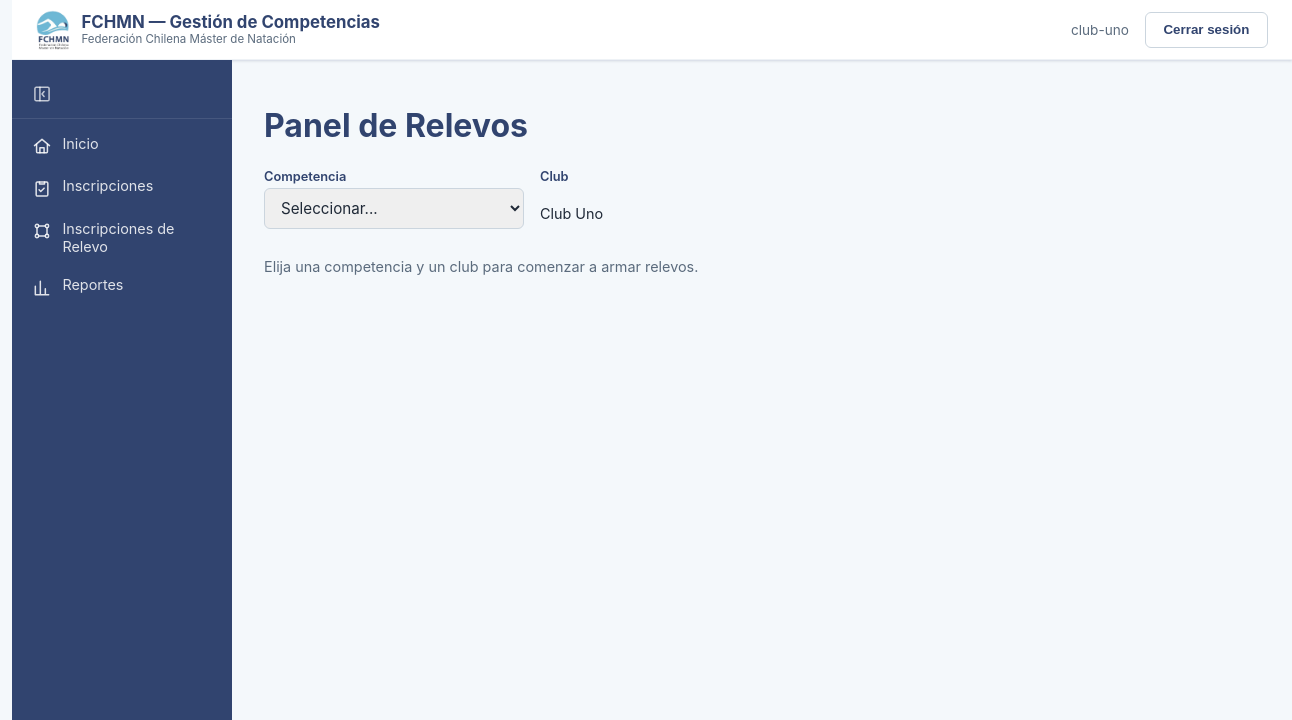
it: «Inscripciones cerradas»: nada operativo para un club › avisa del cierre y mantiene la consulta
The image size is (1292, 720).
Select "Competencia A" in the dropdown. click: (394, 209)
box: [264,188,524,229]
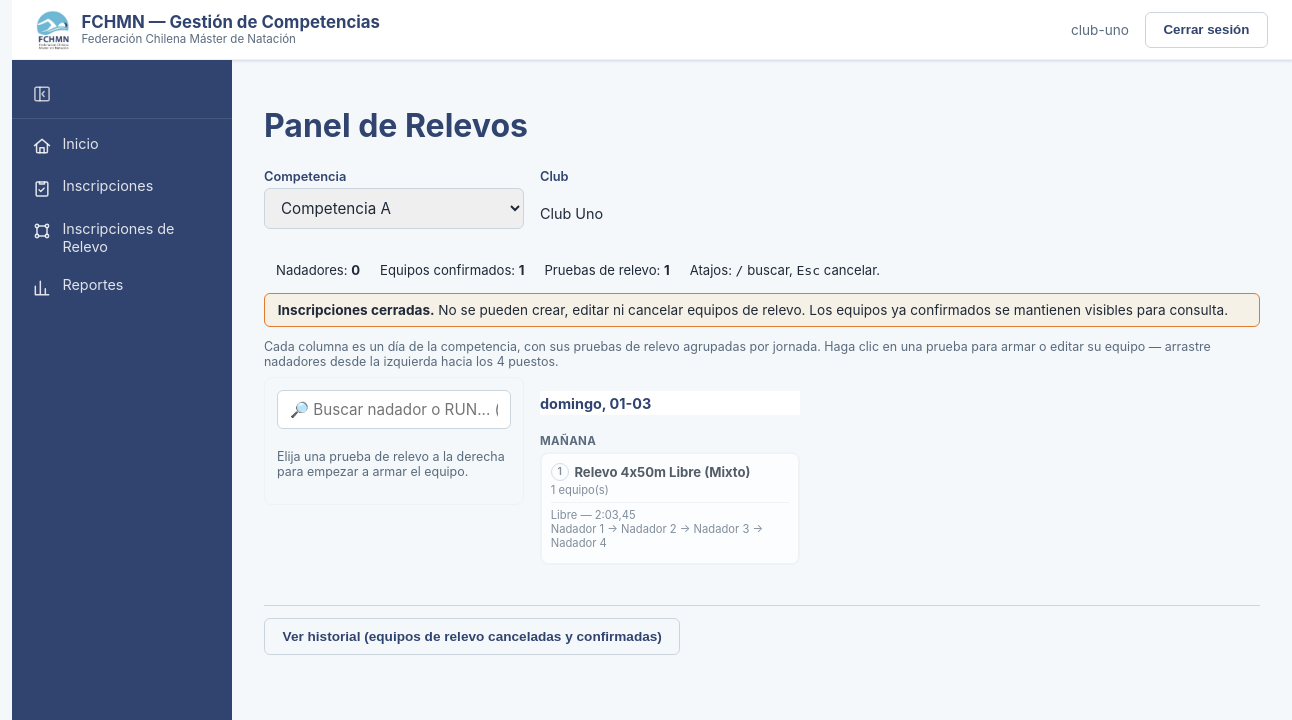
expect the text "Inscripciones cerradas." is shown: met, box [278,302,435,318]
expect the text "visibles para consulta" is shown: met, box [434,302,1228,318]
